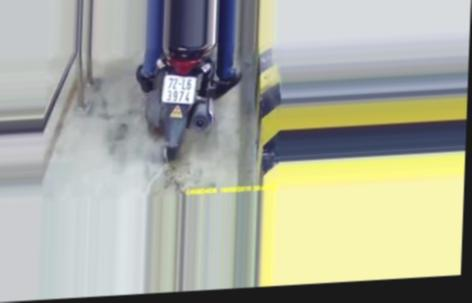License_Plate: (157, 70, 199, 106)
